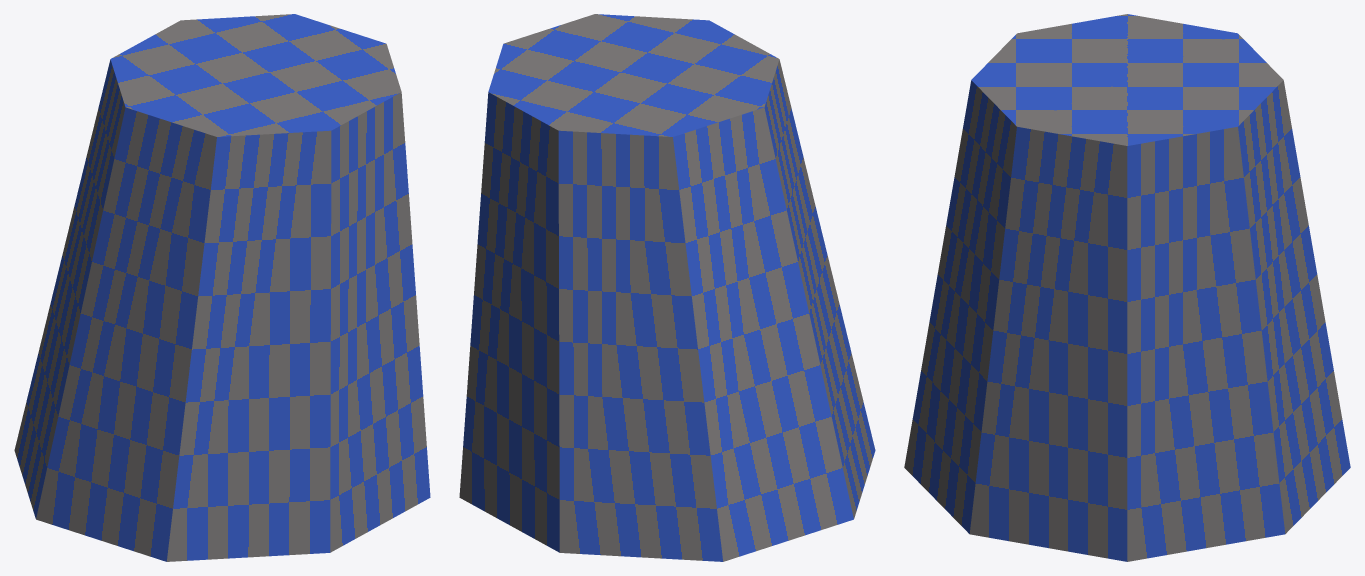
Rendered from asset.glb.
3 renders of one model, left to right at view 1: azimuth 30°, elevation 25°; view 2: azimuth 150°, elevation 25°; view 3: azimuth 270°, elevation 25°, orthographic. The views are drawn at different scales.
Visible parts, largest first — view 1: ProceduralAsset; view 2: ProceduralAsset; view 3: ProceduralAsset.
Boxes of the visible parts, <box> form: ProceduralAsset: <box>14,14,430,561</box>; ProceduralAsset: <box>459,14,875,561</box>; ProceduralAsset: <box>904,14,1350,561</box>.
Bounding box in the file's own units: 2 × 2 × 2.
Materials: 1 (1 with a texture image).
